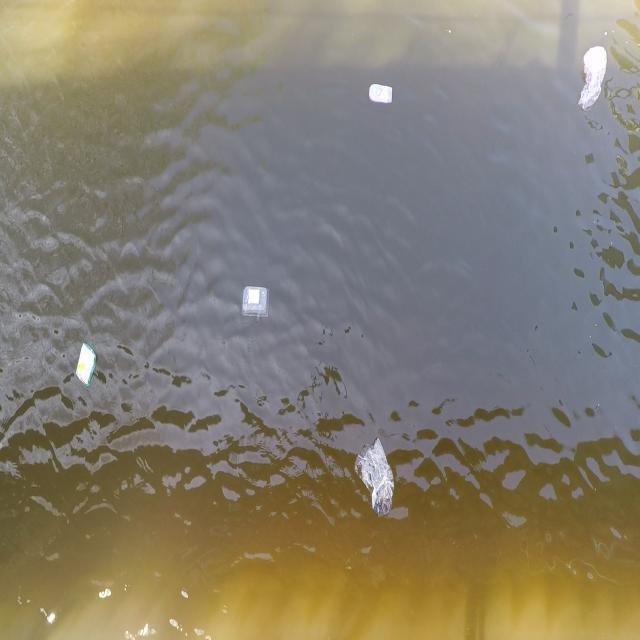Autre plastique: (369, 81, 394, 106)
Sac plastique: (355, 435, 398, 526), (577, 46, 610, 117)
